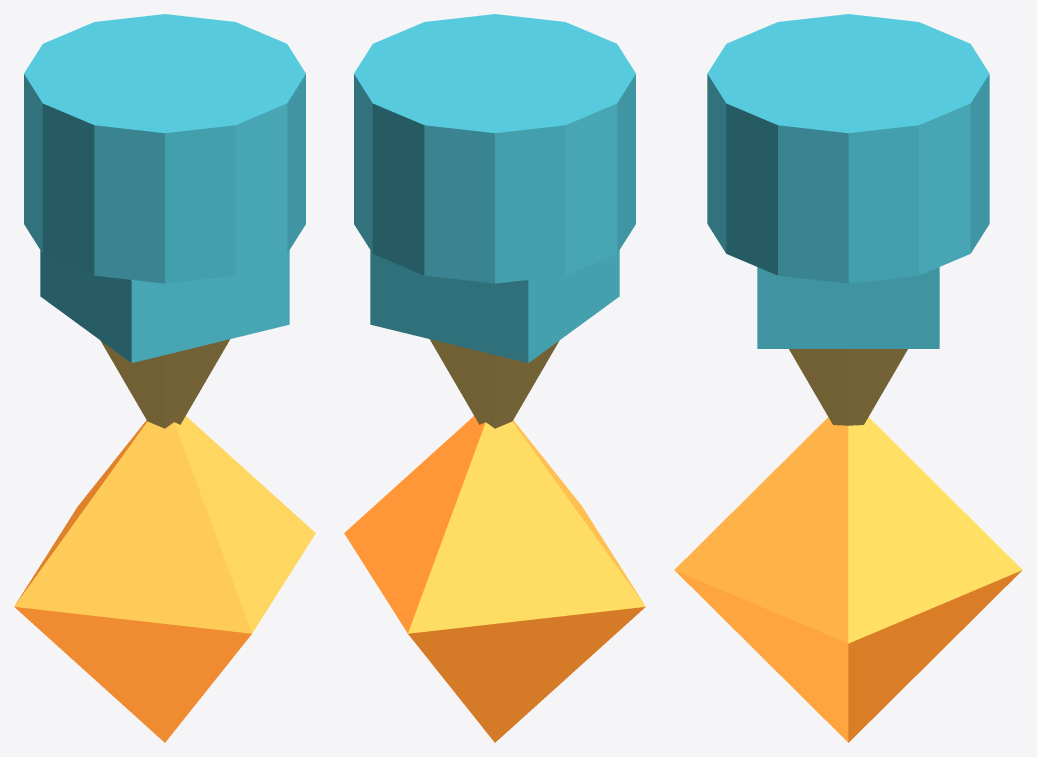
File: station2_bambu_fdm.glb
3 views of the same model, side by side, from view 1: azimuth 30°, elevation 25°; view 2: azimuth 150°, elevation 25°; view 3: azimuth 270°, elevation 25° (orthographic).
Parts seen in each view (by area): view 1: StationArtifact; view 2: StationArtifact; view 3: StationArtifact.
Part boxes in pixels (x1,y1,x2,y2): StationArtifact: [14, 14, 315, 742]; StationArtifact: [344, 14, 645, 742]; StationArtifact: [674, 14, 1022, 742].
Size of the model in its own units: 0.42 by 0.89 by 0.42.
